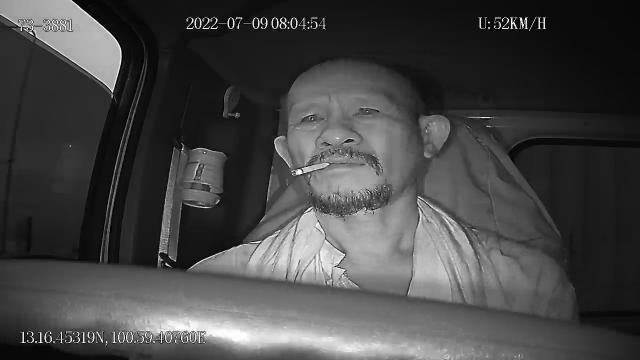SafeDriving: (290, 103, 332, 133), (348, 97, 391, 124)
Smoking: (291, 161, 331, 177)
